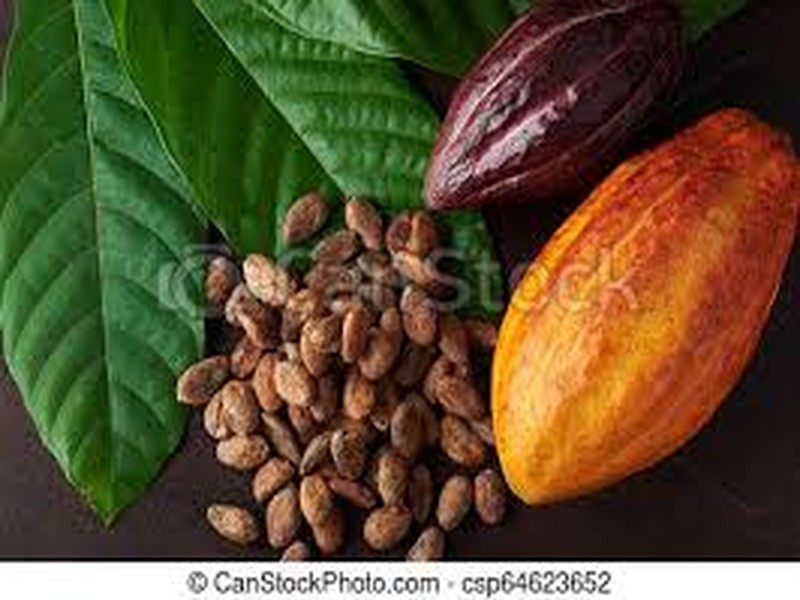Cacaopod: (486, 103, 800, 504)
